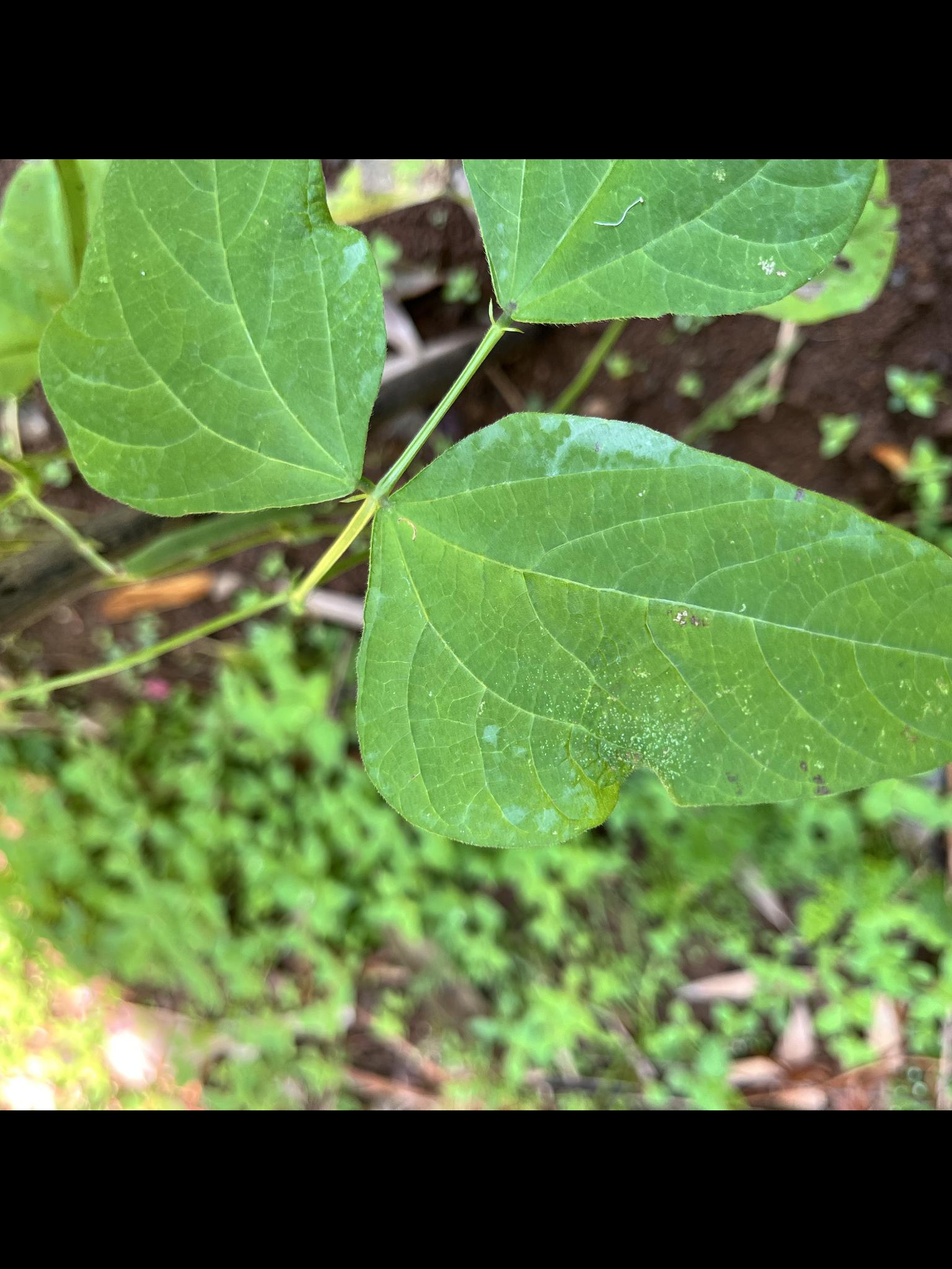embun tepung: (529, 418, 691, 491)
